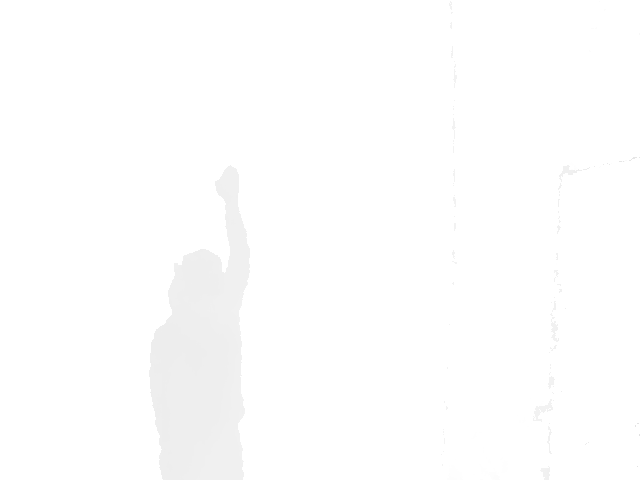hand: (215, 164, 240, 201)
head: (177, 249, 223, 311)
person: (148, 164, 252, 479)
